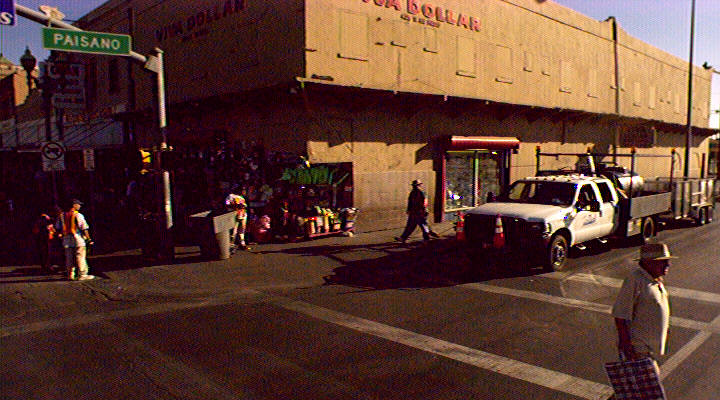Ramp: (89, 224, 479, 308)
